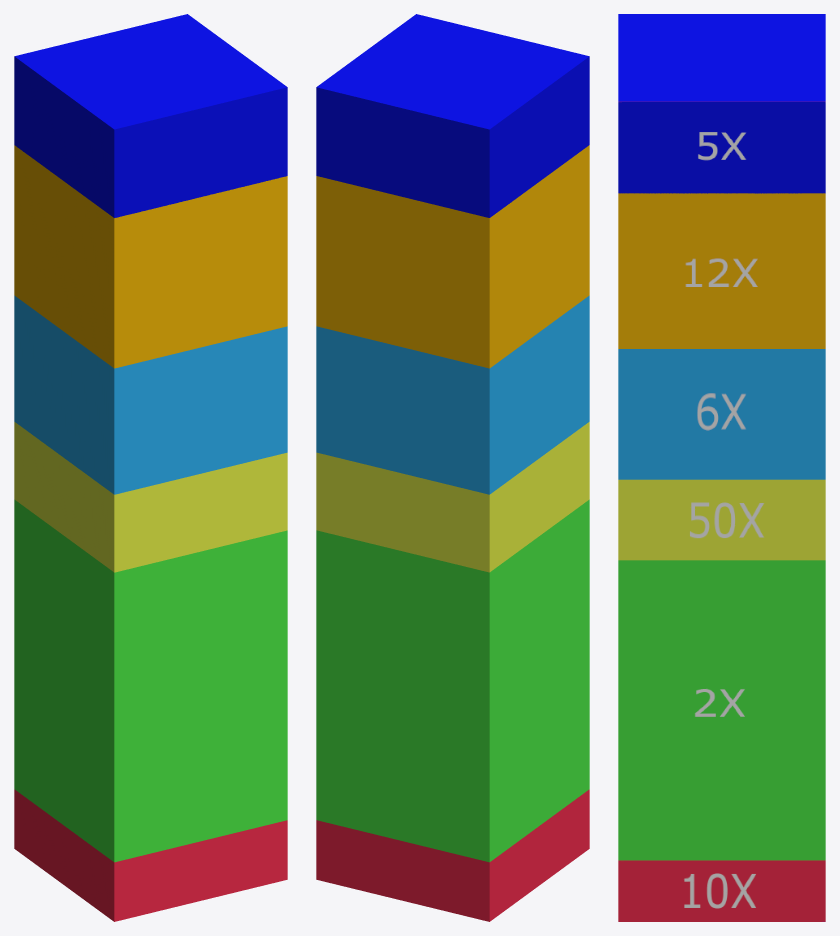
Rendered from Çarpan.fbx.
3 renders of one model, left to right at view 1: azimuth 30°, elevation 25°; view 2: azimuth 150°, elevation 25°; view 3: azimuth 270°, elevation 25°, orthographic. The views are drawn at different scales.
Parts seen in each view (by area): view 1: Cube.001, Cube.005, Cube.004, Cube.003, Cube.002, Cube; view 2: Cube.001, Cube.005, Cube.004, Cube.003, Cube.002, Cube; view 3: Cube.001, Cube.005, Cube.004, Cube.003, Cube.002, Cube.
Part boxes in pixels (<box>): Cube.001: <box>14,499,287,862</box>; Cube.005: <box>14,14,287,217</box>; Cube.004: <box>14,145,287,368</box>; Cube.003: <box>14,295,287,494</box>; Cube.002: <box>14,422,287,572</box>; Cube: <box>14,789,287,921</box>; Cube.001: <box>316,499,589,862</box>; Cube.005: <box>316,14,589,217</box>; Cube.004: <box>316,145,589,368</box>; Cube.003: <box>316,295,589,494</box>; Cube.002: <box>316,422,589,572</box>; Cube: <box>316,789,589,921</box>; Cube.001: <box>618,560,825,860</box>; Cube.005: <box>618,14,825,193</box>; Cube.004: <box>618,193,825,348</box>; Cube.003: <box>618,349,825,479</box>; Cube.002: <box>618,479,825,560</box>; Cube: <box>618,860,825,921</box>.
Size of the model in its own units: 200 by 874 by 200.
